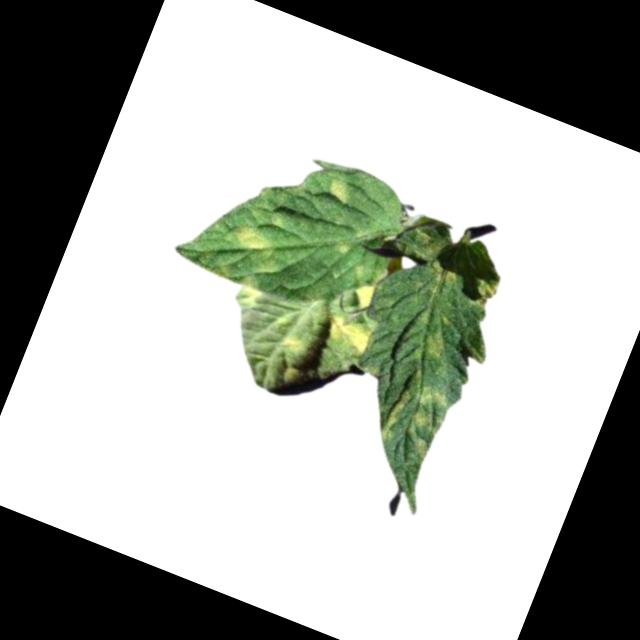Leaf_Mold: (374, 365, 460, 465), (221, 220, 289, 277), (317, 307, 380, 364), (418, 323, 453, 363), (345, 277, 381, 313), (320, 173, 356, 208), (232, 281, 267, 315), (279, 331, 307, 359)
